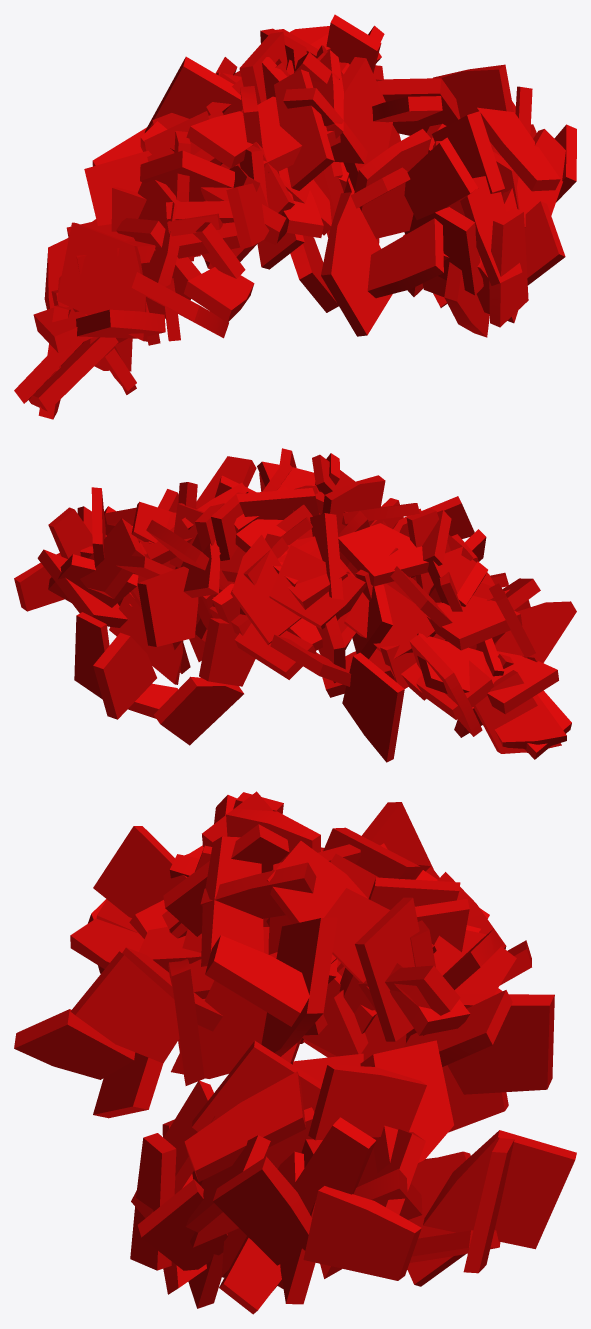
File: raddish.fbx
3 renders of one model, top to bottom at view 1: azimuth 30°, elevation 25°; view 2: azimuth 150°, elevation 25°; view 3: azimuth 270°, elevation 25°, orthographic. The views are drawn at different scales.
Visible parts, largest first — view 1: Radish; view 2: Radish; view 3: Radish.
Boxes of the visible parts, x1=… form: Radish: x1=14, y1=14, x2=576, y2=419; Radish: x1=14, y1=448, x2=576, y2=762; Radish: x1=14, y1=791, x2=576, y2=1314.
Size of the model in its own units: 19.3 by 9.92 by 12.45.
